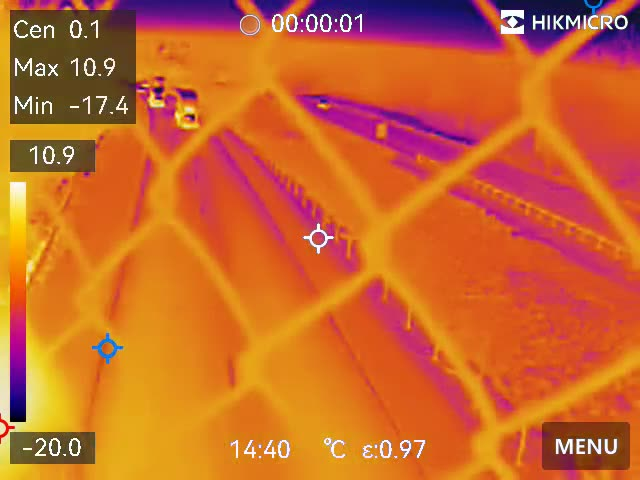heavyTruck: (175, 87, 202, 133), (150, 83, 168, 110)
